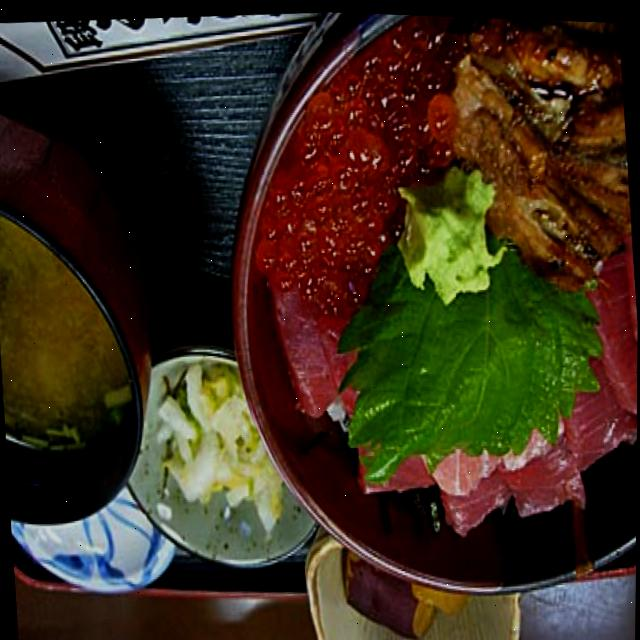刺身生食: (203, 6, 640, 622)
